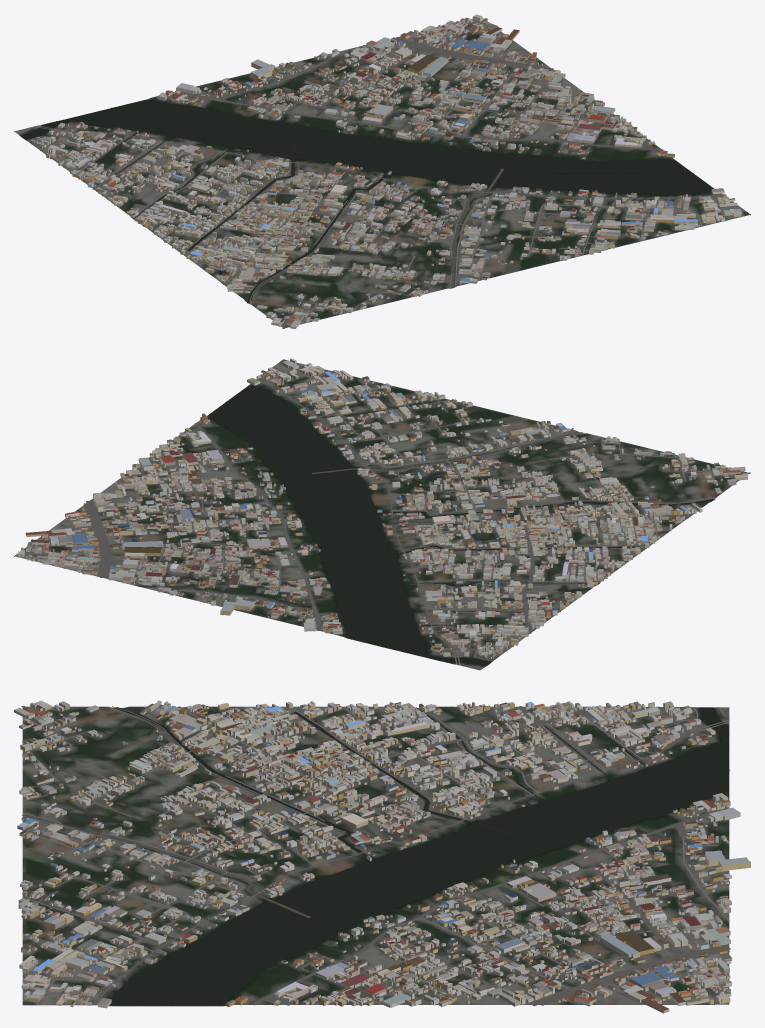
The picture shows the model from 3 angles, top to bottom: view 1: azimuth 30°, elevation 25°; view 2: azimuth 150°, elevation 25°; view 3: azimuth 270°, elevation 25°; orthographic projection. The views are drawn at different scales.
Parts seen in each view (by area): view 1: buildings, ground, water, roads; view 2: ground, buildings, water, roads; view 3: buildings, ground, water, roads.
Part boxes in pixels (x1,y1,x2,y2): buildings: (31, 14, 741, 328); ground: (14, 19, 750, 327); water: (21, 99, 713, 303); roads: (18, 20, 745, 328); ground: (14, 359, 749, 670); buildings: (17, 358, 748, 658); water: (208, 384, 714, 665); roads: (16, 363, 750, 667); buildings: (14, 700, 750, 1013); ground: (22, 706, 729, 1006); water: (22, 706, 729, 1005); roads: (21, 705, 730, 1006).
Size of the model in its own units: 1455 by 23.98 by 1461.
